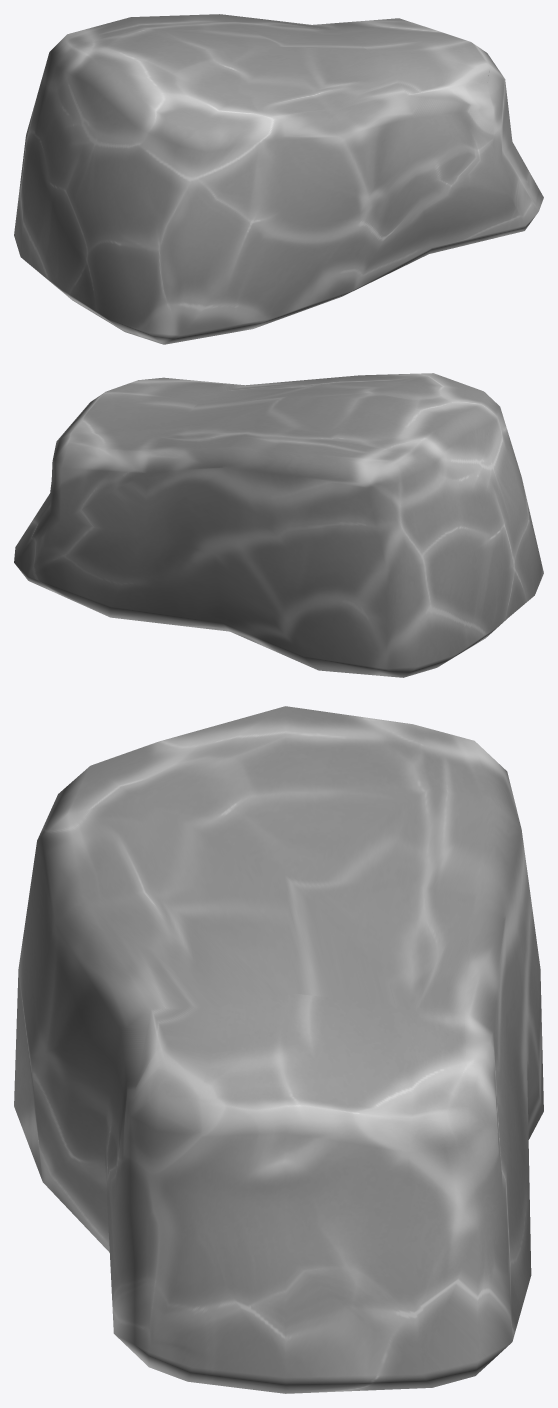
The model's file is roca11.fbx.
3 views of the same model, one above another, from view 1: azimuth 30°, elevation 25°; view 2: azimuth 150°, elevation 25°; view 3: azimuth 270°, elevation 25° (orthographic). The views are drawn at different scales.
Parts seen in each view (by area): view 1: roca11; view 2: roca11; view 3: roca11.
Part boxes in pixels (x1,y1,x2,y2): roca11: [14, 14, 543, 344]; roca11: [14, 373, 543, 677]; roca11: [14, 706, 543, 1393].
Size of the model in its own units: 20.31 by 9.81 by 12.19.
